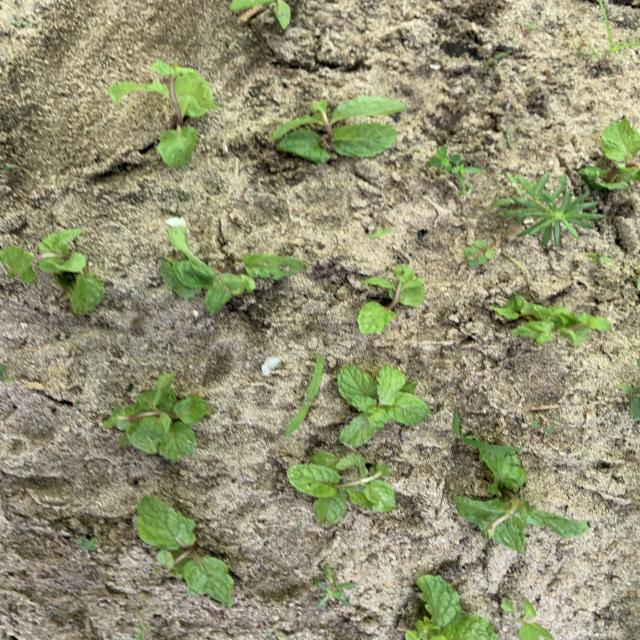crop: (162, 224, 304, 311), (109, 62, 215, 167), (138, 498, 234, 605), (104, 374, 209, 459), (1, 230, 104, 315), (272, 96, 403, 162), (287, 452, 395, 524), (337, 365, 431, 446), (491, 295, 610, 344), (406, 575, 497, 639), (358, 265, 423, 333), (581, 118, 639, 189)
weed: (494, 173, 601, 246), (286, 353, 323, 435), (428, 147, 482, 195), (501, 599, 554, 640), (314, 564, 355, 607), (527, 404, 556, 434), (464, 240, 494, 265), (619, 385, 639, 419), (74, 537, 98, 550), (484, 53, 506, 67), (588, 254, 611, 265), (370, 226, 391, 238), (1, 365, 15, 383), (524, 20, 538, 32)
